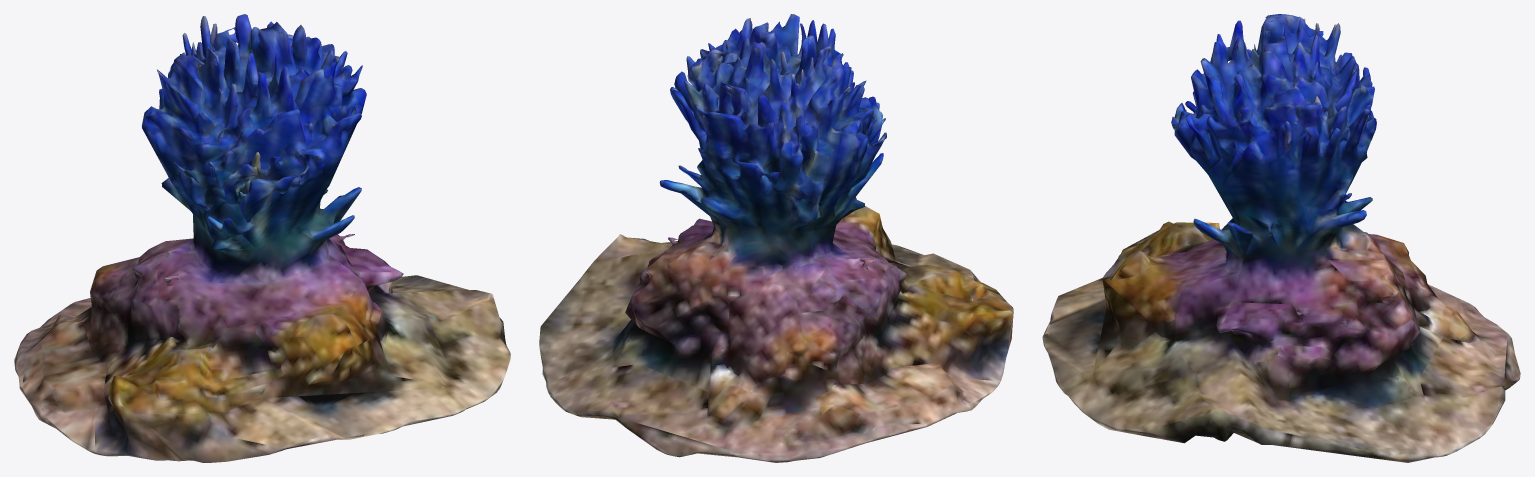
Rendered from blue_sea_anemone_l.glb.
The picture shows the model from 3 angles, left to right: view 1: azimuth 30°, elevation 25°; view 2: azimuth 150°, elevation 25°; view 3: azimuth 270°, elevation 25°; orthographic projection. The views are drawn at different scales.
Visible parts, largest first — view 1: Object_4; view 2: Object_4; view 3: Object_4.
Part boxes in pixels (x1=…): Object_4: x1=14, y1=14, x2=510, y2=462; Object_4: x1=539, y1=14, x2=1013, y2=462; Object_4: x1=1042, y1=14, x2=1520, y2=462.
Size of the model in its own units: 1.68 by 1.35 by 1.68.
Materials: 1 (1 with a texture image).
